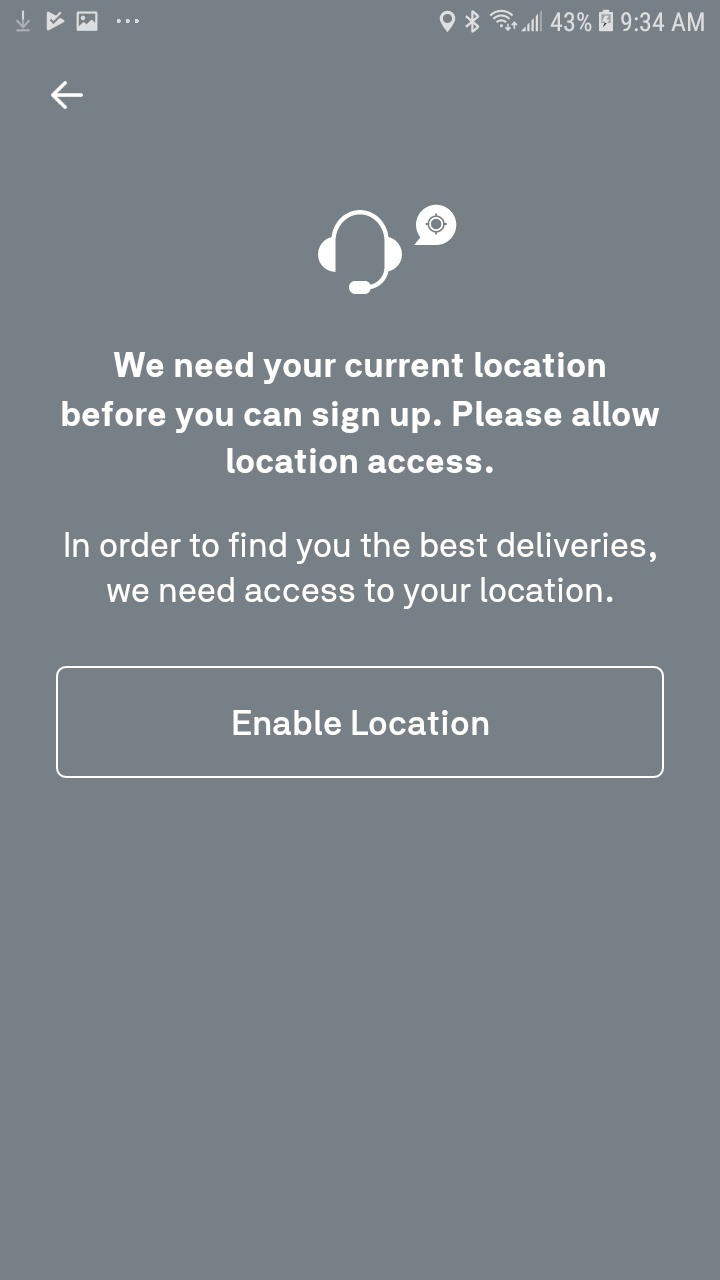Icon: (414, 204, 458, 247), (50, 80, 83, 109)
Image: (317, 210, 403, 296)
Text: (62, 352, 660, 475), (65, 532, 657, 611)
TextButton: (56, 666, 665, 779)
UpperTaskBar: (1, 1, 720, 35)
